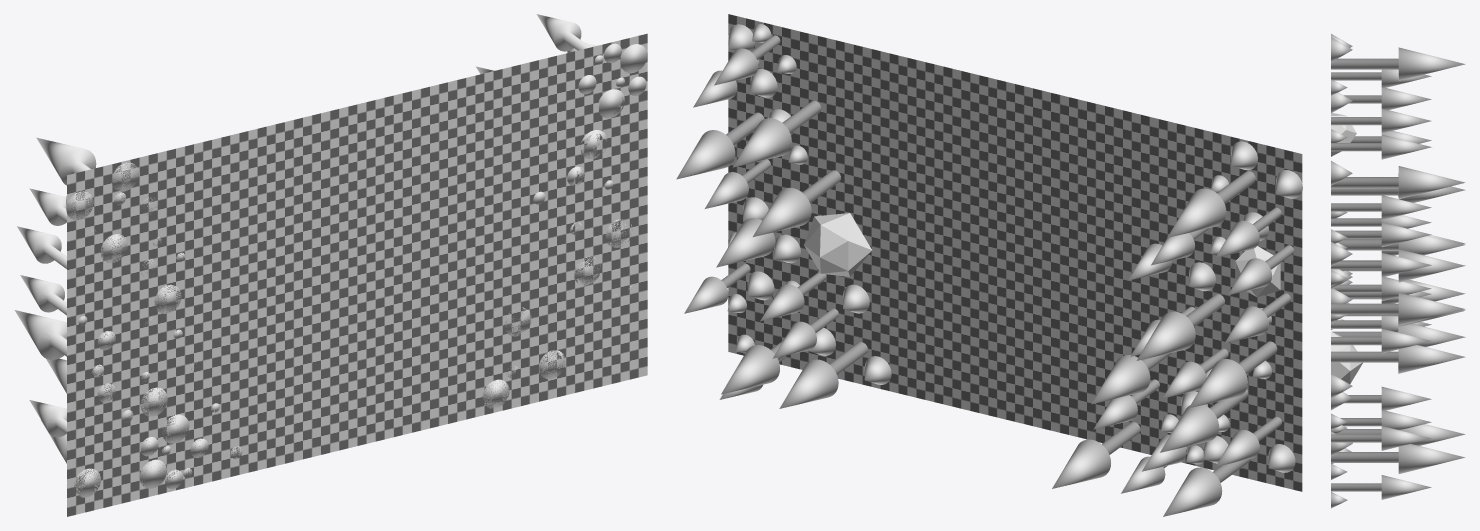
Rendered from forest10.dae.
3 renders of one model, left to right at view 1: azimuth 30°, elevation 25°; view 2: azimuth 150°, elevation 25°; view 3: azimuth 270°, elevation 25°, orthographic. The views are drawn at different scales.
Visible parts, largest first — view 1: Plane.011, Cone.652, Cone.659, Cone.649, Cone.602, Cone.640, Cone.663, Cone.661; view 2: Plane.011, Icosphere.014, Cone.594, Cone.626, Cone.596, Cone.628, Cone.615, Cone.652, Cone.659, Cone.642, Cone.658, Cone.636 (+20 smaller); view 3: Cone.642, Cone.659, Cone.615, Cone.621, Cone.647, Cone.561, Cone.614, Cone.637, Cone.595, Cone.580, Cone.618, Cone.644 (+27 smaller).
Boxes of the visible parts, x1,y1,x2,y2 form: Plane.011: [67, 33, 647, 516]; Cone.652: [14, 310, 104, 377]; Cone.659: [36, 137, 125, 205]; Cone.649: [536, 14, 603, 64]; Cone.602: [20, 275, 87, 325]; Cone.640: [17, 226, 83, 276]; Cone.663: [29, 400, 66, 437]; Cone.661: [29, 188, 95, 237]; Plane.011: [728, 14, 1302, 491]; Icosphere.014: [804, 213, 872, 276]; Cone.594: [1052, 422, 1140, 488]; Cone.626: [779, 342, 867, 408]; Cone.596: [733, 100, 821, 167]; Cone.628: [753, 170, 840, 236]; Cone.615: [1136, 294, 1224, 360]; Cone.652: [1189, 341, 1277, 408]; Cone.659: [1167, 171, 1255, 237]; Cone.642: [676, 112, 764, 179]; Cone.658: [1163, 458, 1251, 516]; Cone.636: [1160, 389, 1248, 452]; Cone.642: [1331, 292, 1465, 325]; Cone.659: [1331, 47, 1465, 80]; Cone.615: [1331, 166, 1465, 199]; Cone.621: [1331, 345, 1465, 373]; Cone.647: [1331, 444, 1465, 473]; Cone.561: [1338, 235, 1465, 255]; Cone.614: [1331, 108, 1431, 133]; Cone.637: [1331, 328, 1431, 353]; Cone.595: [1331, 134, 1431, 159]; Cone.580: [1331, 475, 1431, 499]; Cone.618: [1331, 195, 1431, 219]; Cone.644: [1331, 426, 1431, 450].
Size of the model in its own units: 64.11 by 16 by 36.4.
